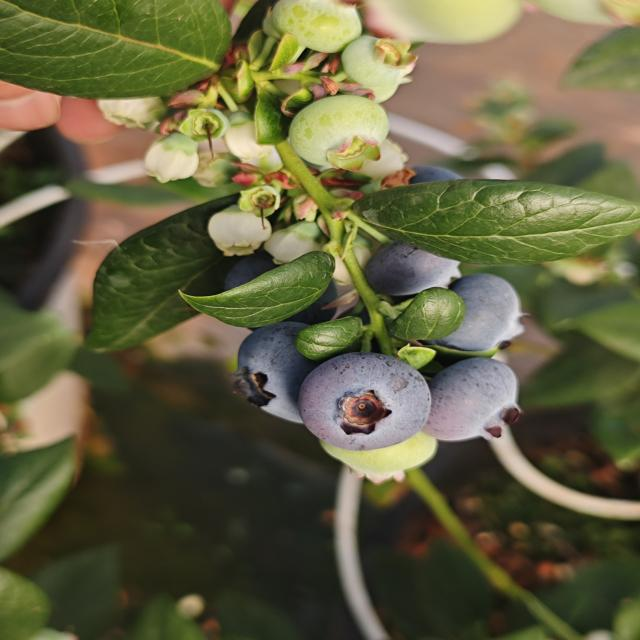ripe: (294, 351, 439, 452), (224, 318, 348, 427), (215, 240, 343, 332), (417, 354, 533, 444), (425, 270, 542, 352), (361, 230, 460, 298), (379, 160, 479, 206)
